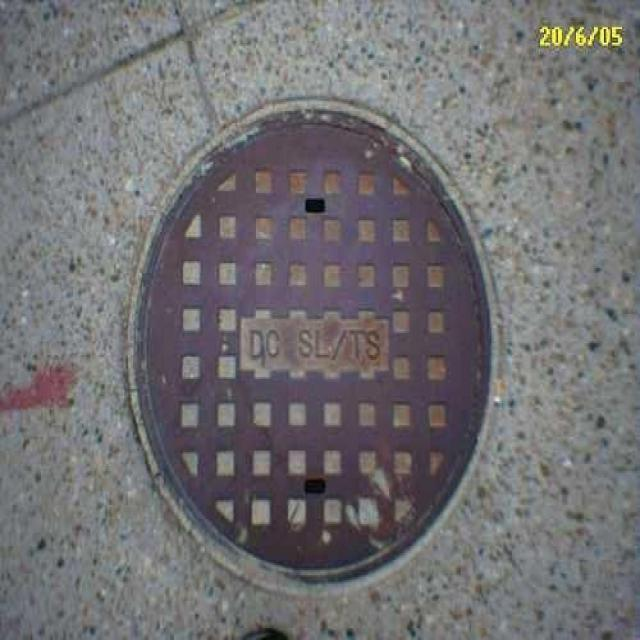manhole: (135, 113, 490, 577)
